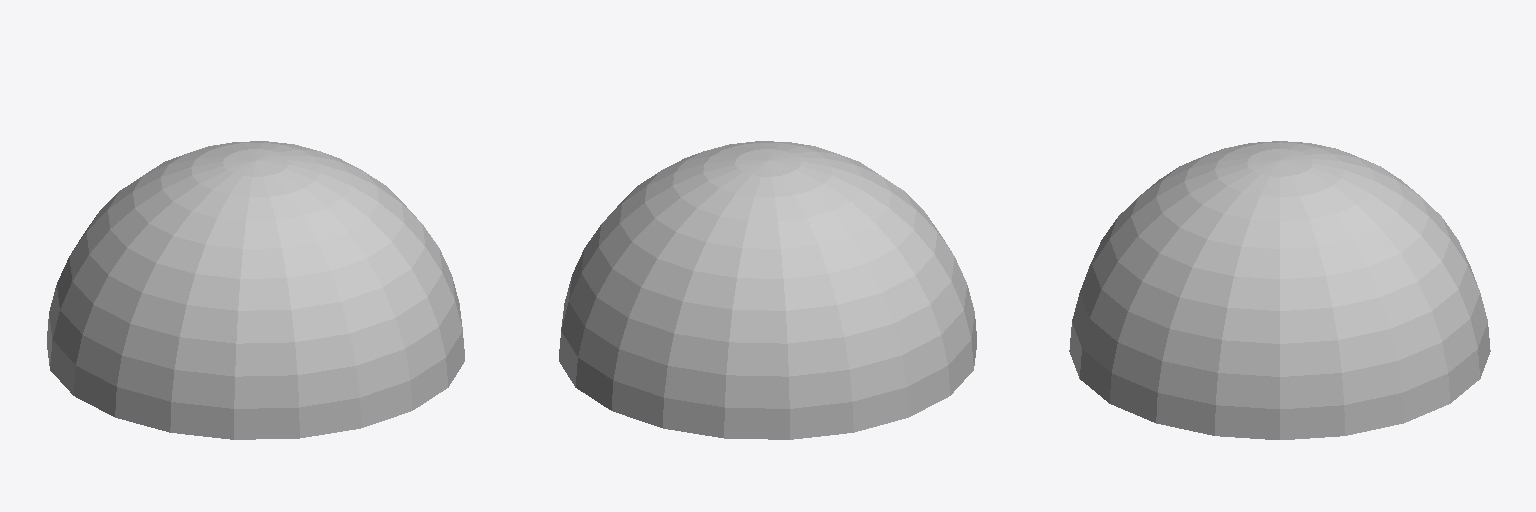
File: hemisphere.obj
3 renders of one model, left to right at view 1: azimuth 30°, elevation 25°; view 2: azimuth 150°, elevation 25°; view 3: azimuth 270°, elevation 25°, orthographic.
Visible parts, largest first — view 1: pSphere1; view 2: pSphere1; view 3: pSphere1.
Part boxes in pixels (x1,y1,x2,y2): pSphere1: (47,141,464,439); pSphere1: (559,141,976,439); pSphere1: (1069,141,1490,439).
Size of the model in its own units: 2 by 1 by 2.